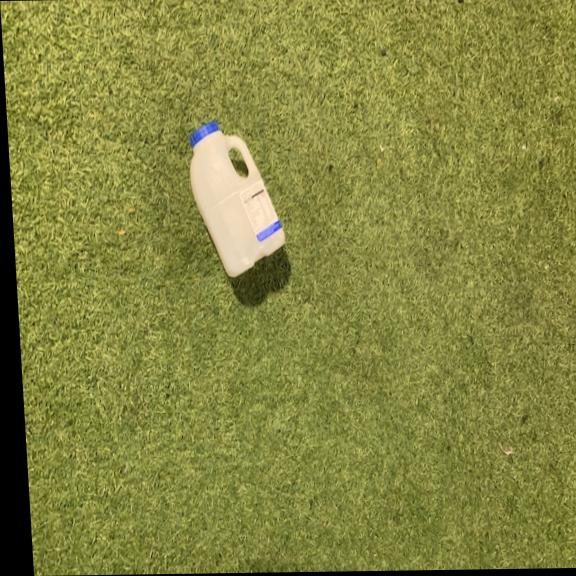Plastik: (184, 118, 291, 281)
